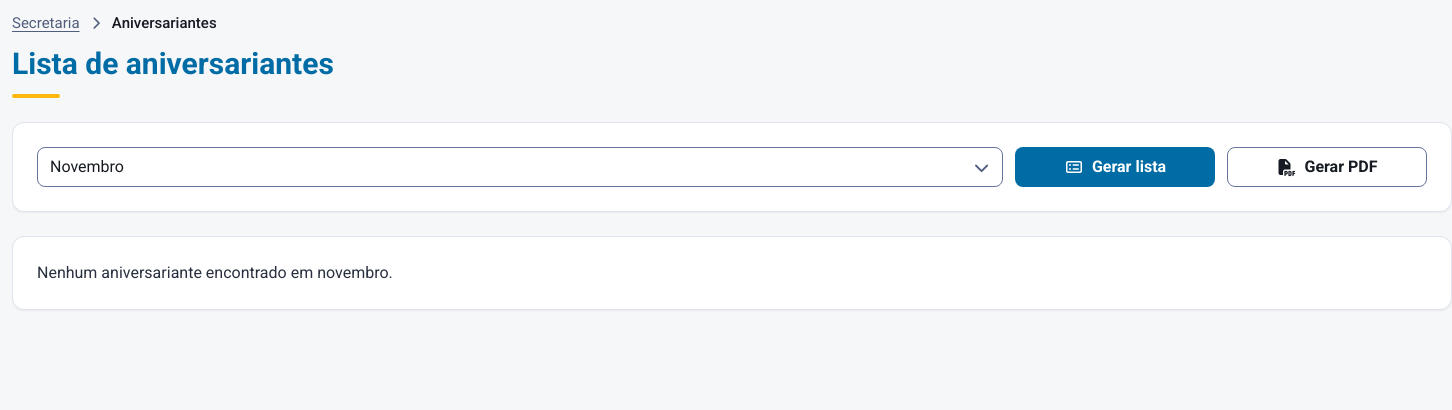
TU-38 "Gerar PDF" shows notices and failures › alerts the same notice as the empty list of the month
This screenshot has width=1452, height=410.
Click the button "Gerar PDF" at (1327, 167), box x1=1227 y1=147 x2=1427 y2=187
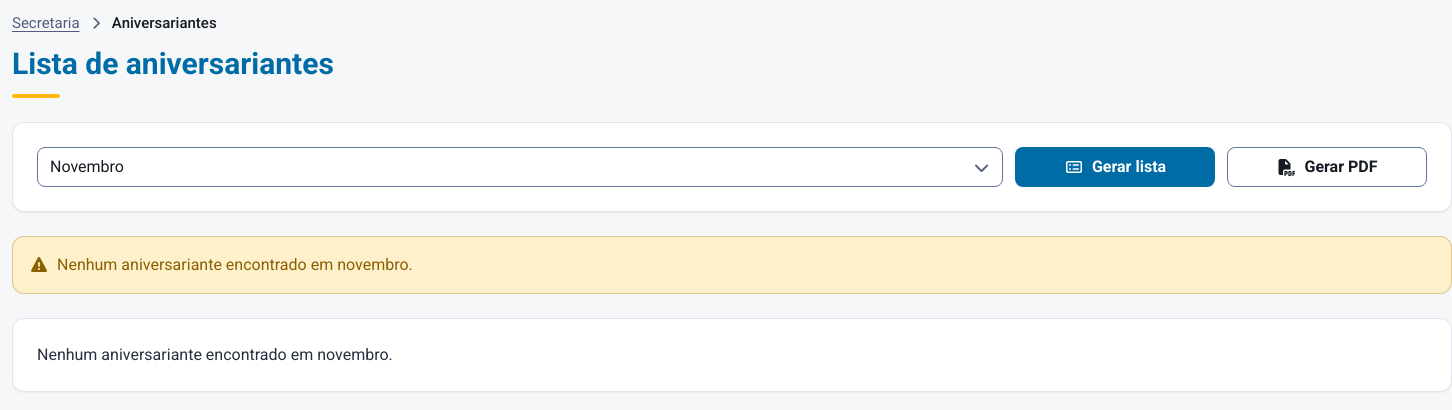
Expected: the text "Nenhum aniversariante encontrado em novembro." is shown, x1=57 y1=253 x2=413 y2=277
